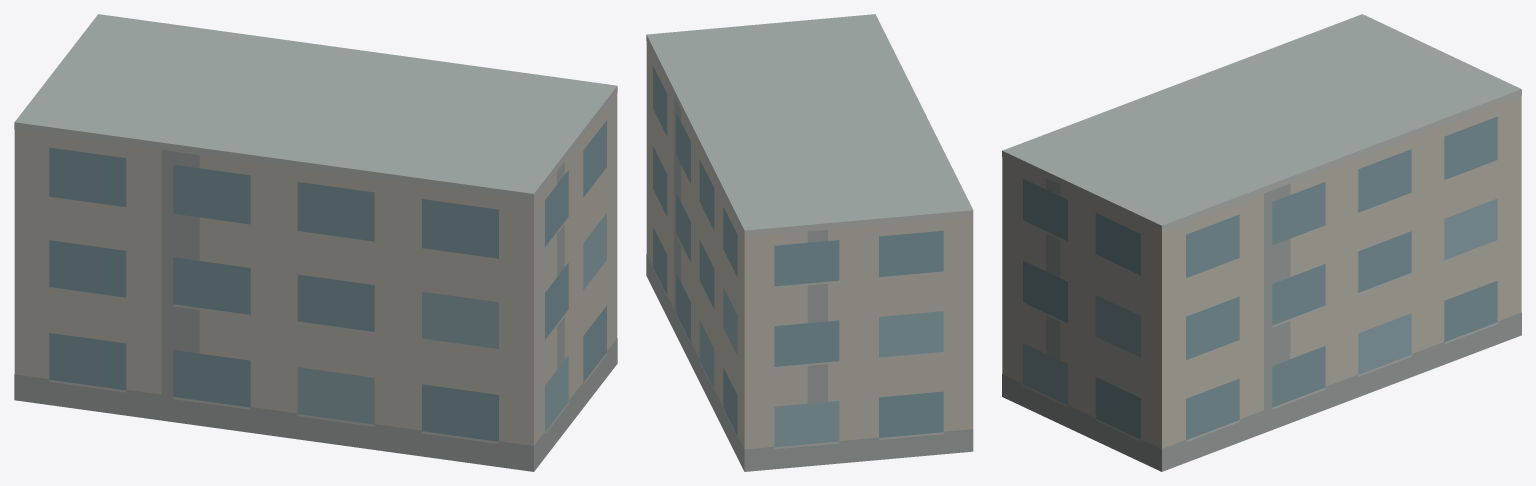
File: residential-6e65380e-a608-4c04-ac41-e2e4b411b917.glb
3 renders of one model, left to right at view 1: azimuth 30°, elevation 25°; view 2: azimuth 150°, elevation 25°; view 3: azimuth 270°, elevation 25°, orthographic. The views are drawn at different scales.
Parts seen in each view (by area): view 1: residential-6e65380e-a608-4c04-ac41-e2e4b411b917.tmp; view 2: residential-6e65380e-a608-4c04-ac41-e2e4b411b917.tmp; view 3: residential-6e65380e-a608-4c04-ac41-e2e4b411b917.tmp.
Part boxes in pixels (x1,y1,x2,y2): residential-6e65380e-a608-4c04-ac41-e2e4b411b917.tmp: (14, 14, 617, 471); residential-6e65380e-a608-4c04-ac41-e2e4b411b917.tmp: (646, 14, 973, 471); residential-6e65380e-a608-4c04-ac41-e2e4b411b917.tmp: (1002, 14, 1521, 471).
Bounding box in the file's own units: 16.88 × 9.15 × 17.51.
